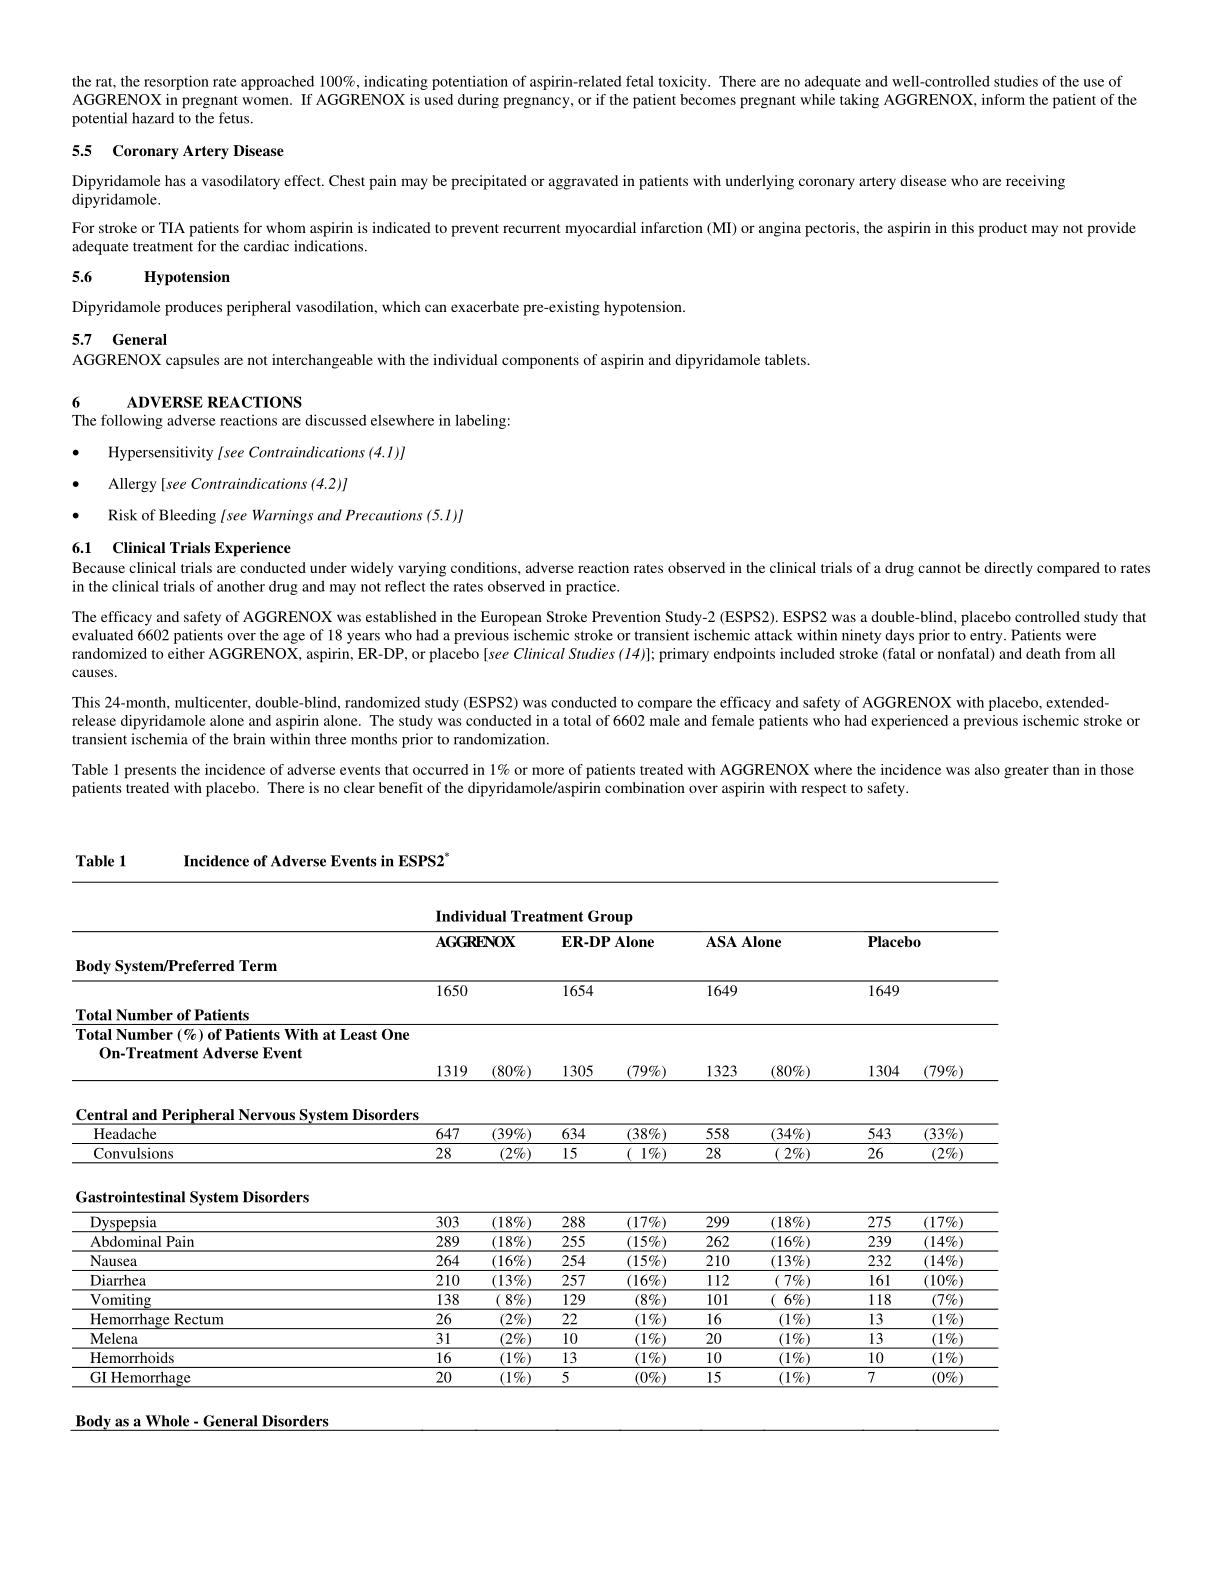partial_lined_merged_cells: (69, 879, 1002, 1389)
